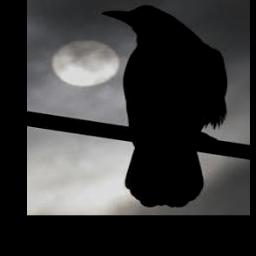Crow: (99, 4, 228, 208)
